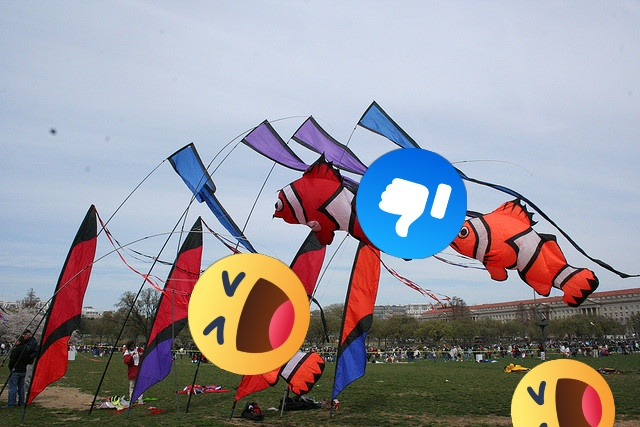haha: (188, 253, 310, 375), (511, 359, 615, 427)
like: (356, 148, 467, 259)
